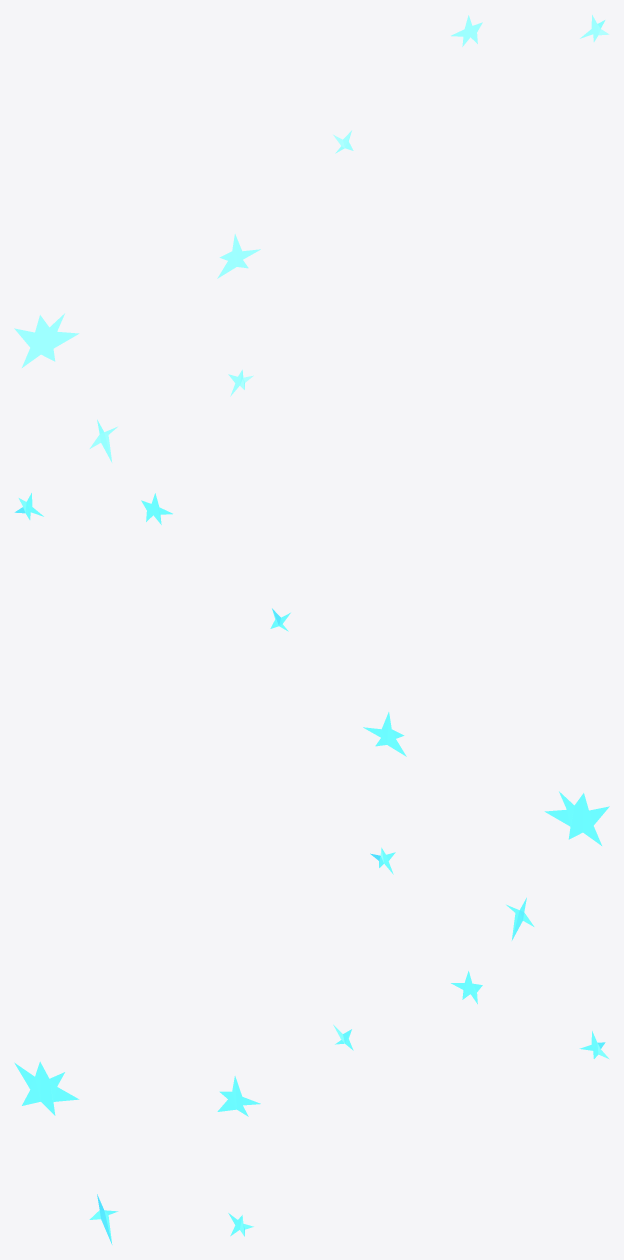
File: Constellation.fbx
3 renders of one model, top to bottom at view 1: azimuth 30°, elevation 25°; view 2: azimuth 150°, elevation 25°; view 3: azimuth 330°, elevation 25°, orthographic.
Parts seen in each view (by area): view 1: star1, star4; view 2: star1, star4; view 3: star1, star4.
Part boxes in pixels (<box>): star1: <box>14,313,79,367</box>; star4: <box>217,234,260,278</box>; star1: <box>544,791,609,845</box>; star4: <box>363,712,406,756</box>; star1: <box>14,1061,79,1115</box>; star4: <box>217,1076,260,1116</box>.
Size of the model in its own units: 362 by 210 by 5.01e-06.
